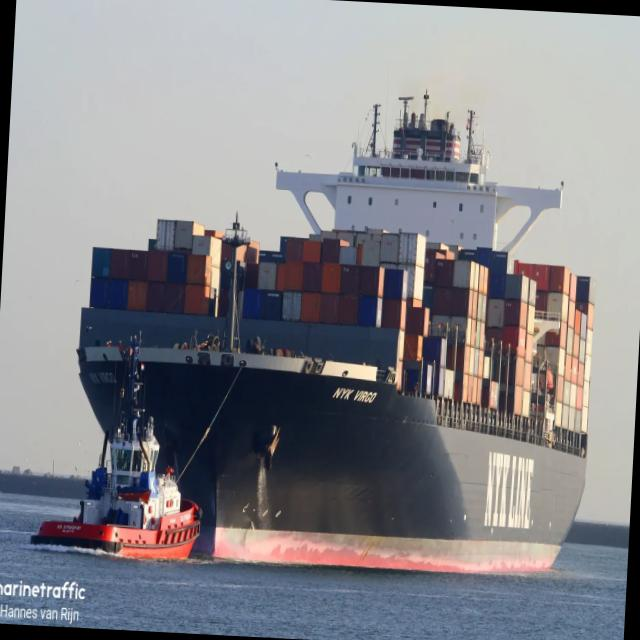Cargo: (78, 104, 594, 572)
Tug: (31, 343, 201, 559)
